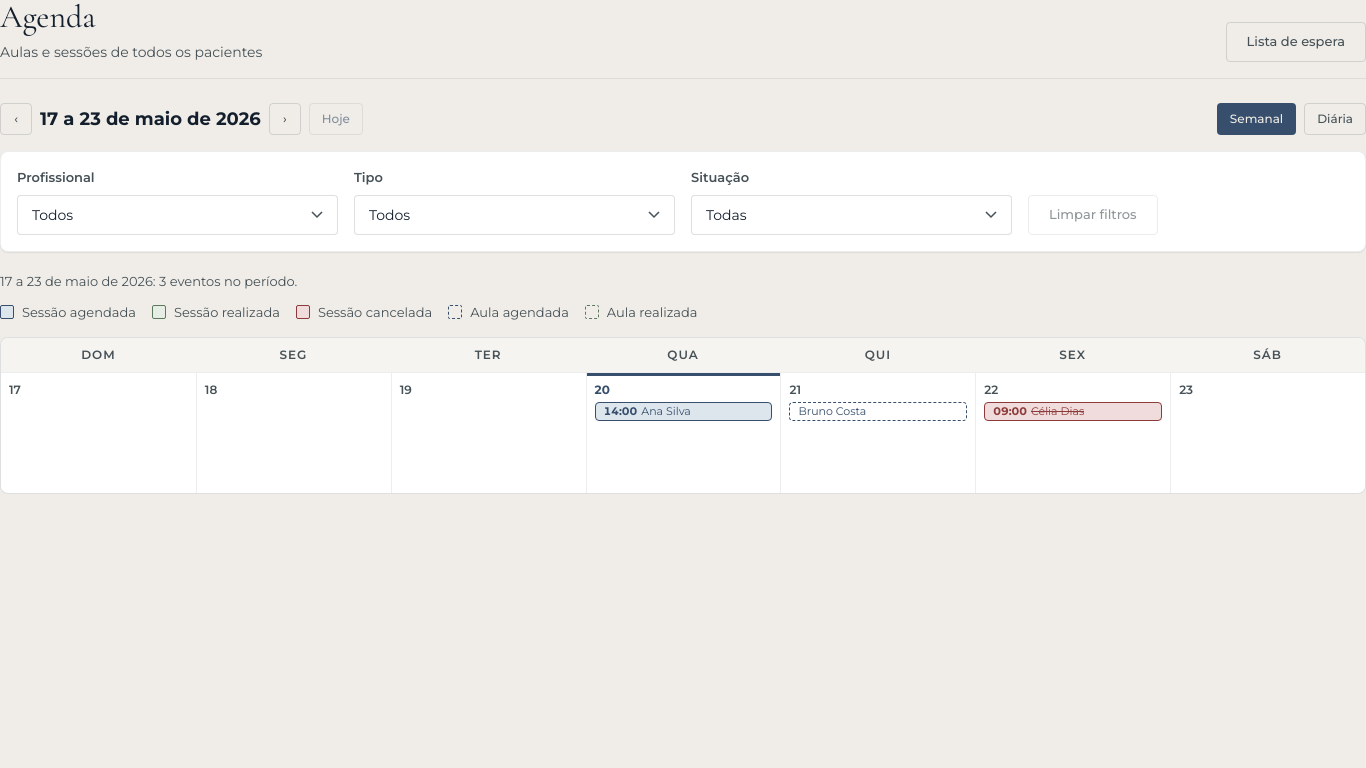
Test: AgendaComponent › detalhe e ações rápidas › should confirm before marking a session as done and reload the period
The width and height of the screenshot is (1366, 768).
Click the button with class "evento" showing "14:00 Ana Silva" at [684, 412], box [595,402,772,421]
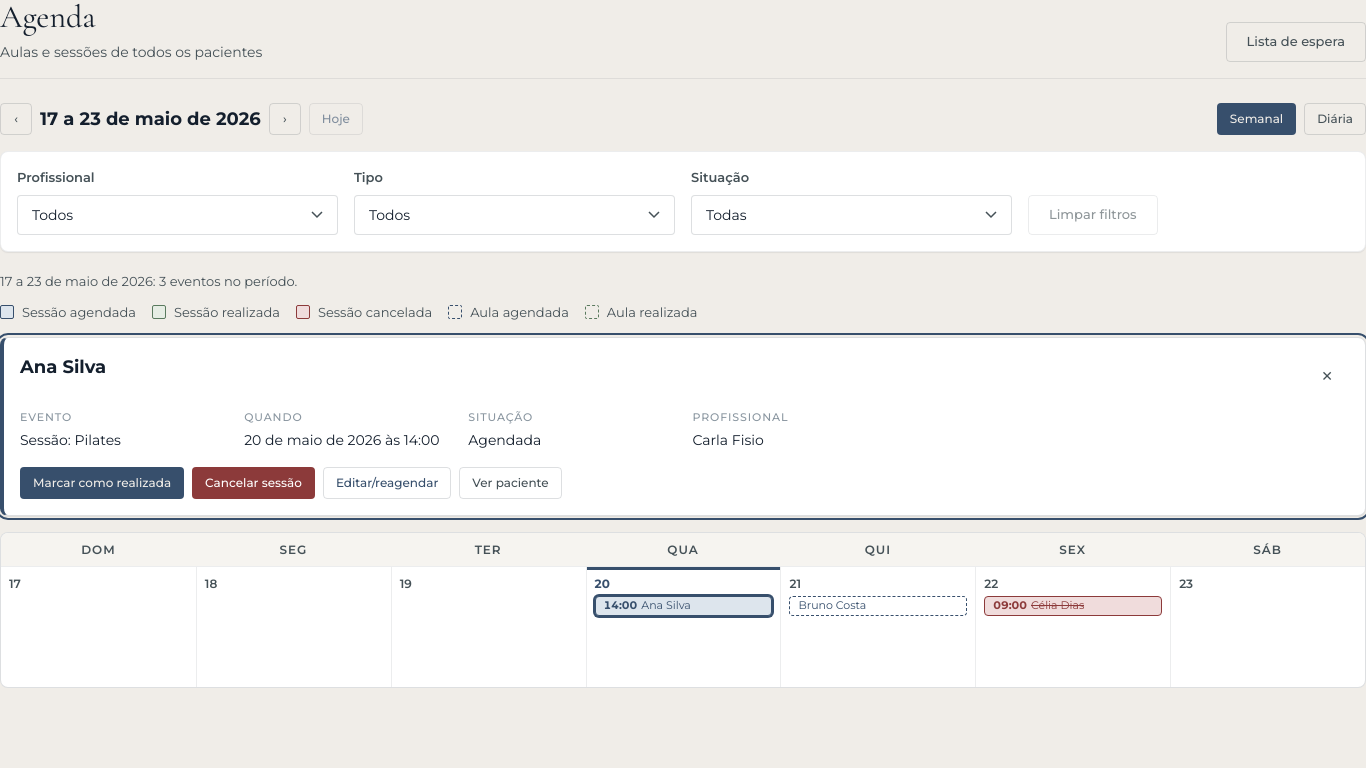
Click the button "Marcar como realizada" at [102, 483], box [20,467,184,499]
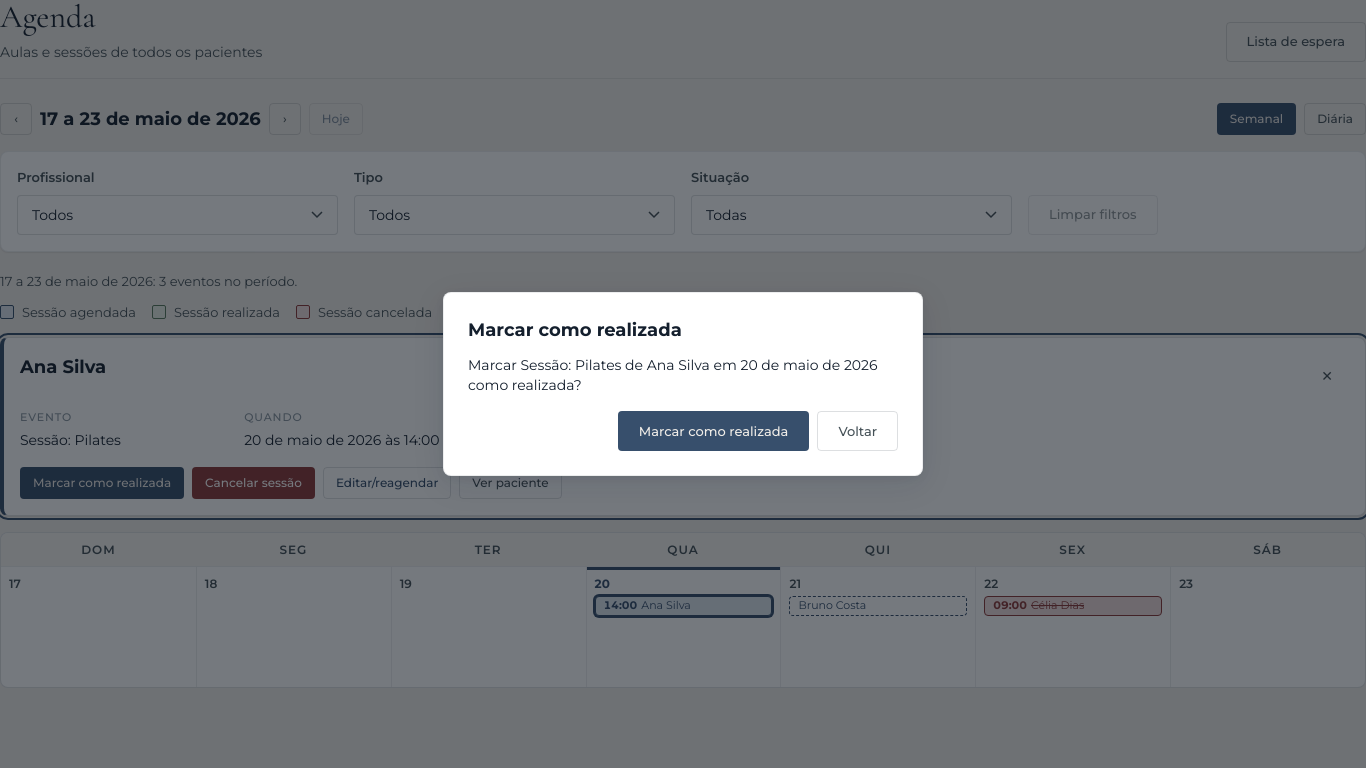
Click the button "Marcar como realizada" at [714, 431], box [618,411,809,451]
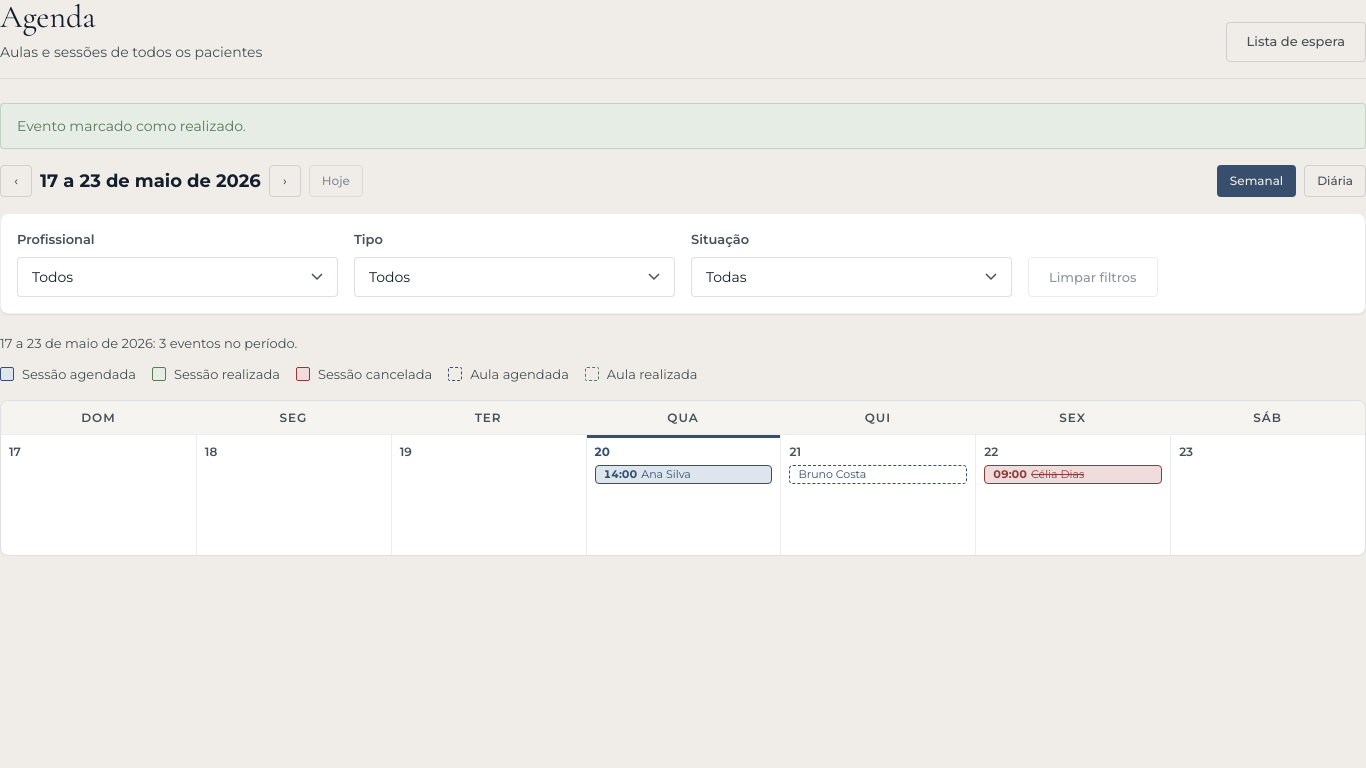
Expected: the message with class "alert-success" reads "Evento marcado como realizado.", [17,117,246,135]
